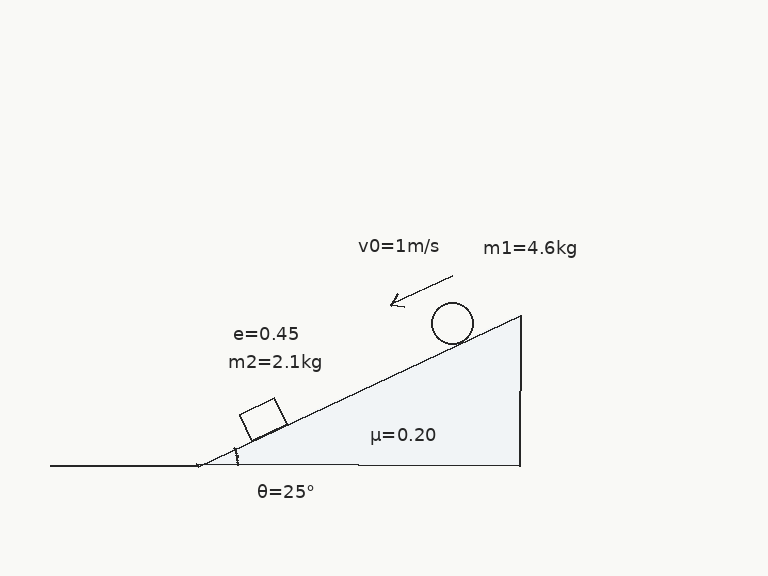ball: (429, 300, 475, 346)
block: (237, 395, 289, 442)
ramp: (196, 313, 522, 467)
